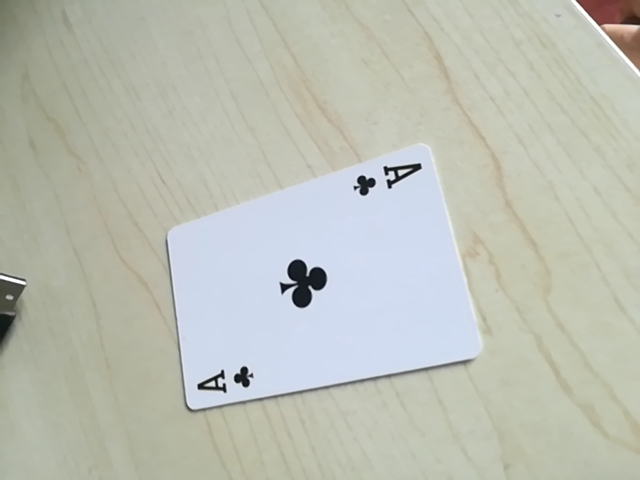mh a: (188, 355, 264, 404), (348, 158, 427, 202)
